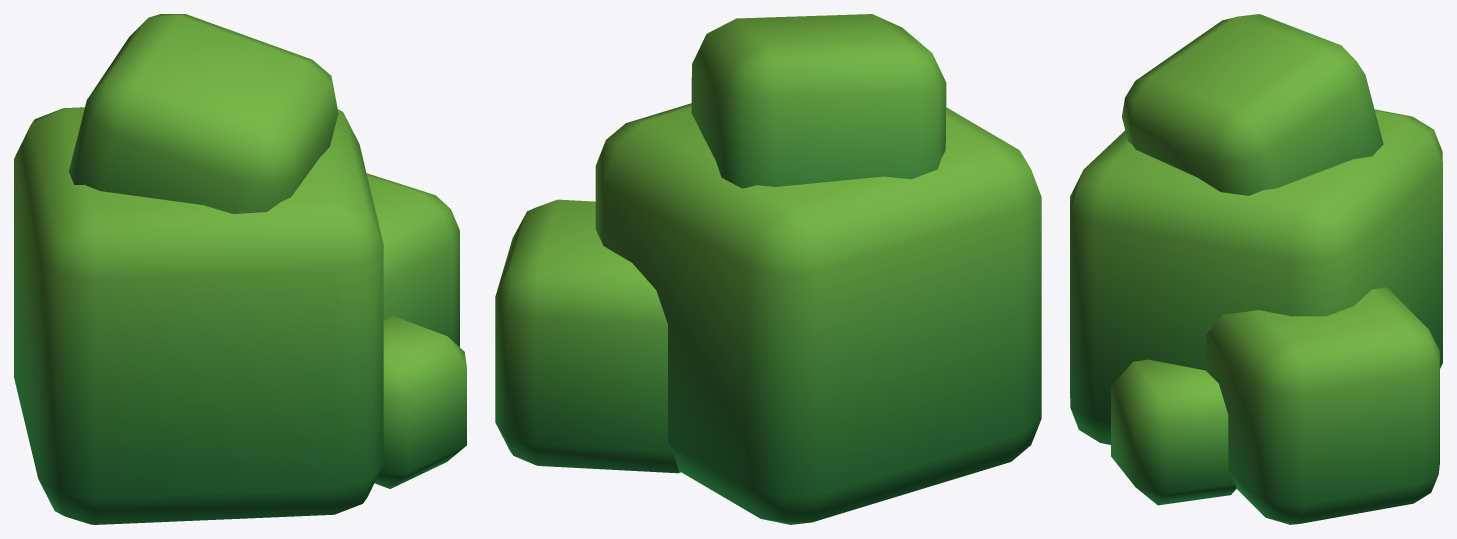
Rendered from Bush_2_F_Color1.gltf.
3 renders of one model, left to right at view 1: azimuth 30°, elevation 25°; view 2: azimuth 150°, elevation 25°; view 3: azimuth 270°, elevation 25°, orthographic. The views are drawn at different scales.
Parts seen in each view (by area): view 1: Bush_2_F_Color1; view 2: Bush_2_F_Color1; view 3: Bush_2_F_Color1.
Boxes of the visible parts, x1,y1,x2,y2 form: Bush_2_F_Color1: (14, 14, 466, 524); Bush_2_F_Color1: (495, 14, 1041, 524); Bush_2_F_Color1: (1070, 14, 1442, 524).
Size of the model in its own units: 2.01 by 1.79 by 1.59.
Materials: 1 (1 with a texture image).
